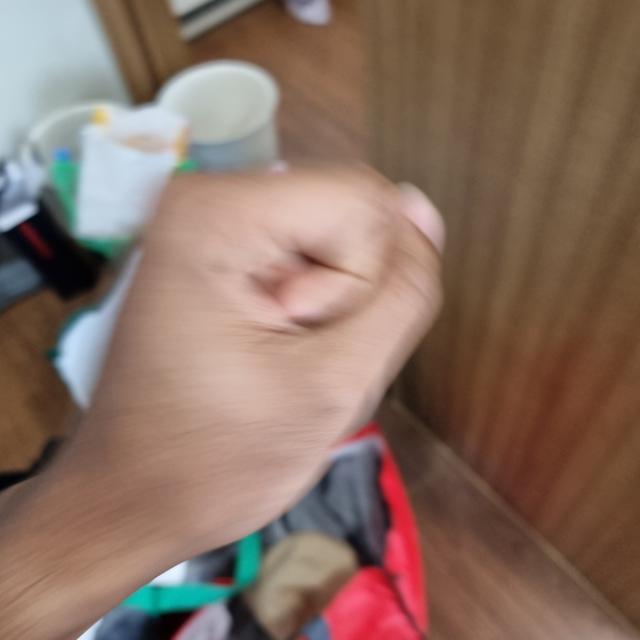Rock: (56, 162, 446, 561)
